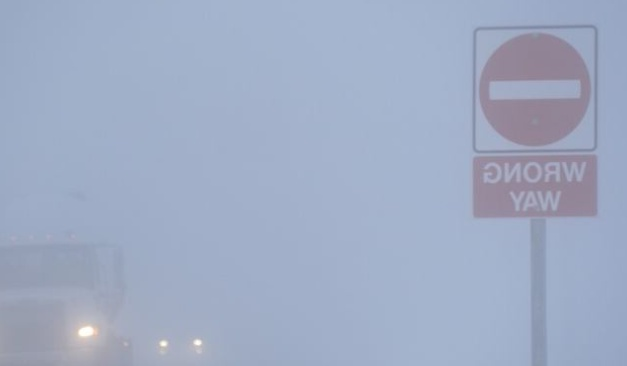No entry: (477, 26, 590, 147)
